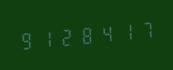eight: (77, 20, 96, 49)
four: (97, 19, 116, 47)
nine: (17, 26, 36, 54)
one: (37, 24, 56, 52), (117, 17, 136, 45)
seven: (137, 15, 156, 43)
two: (57, 22, 76, 50)
